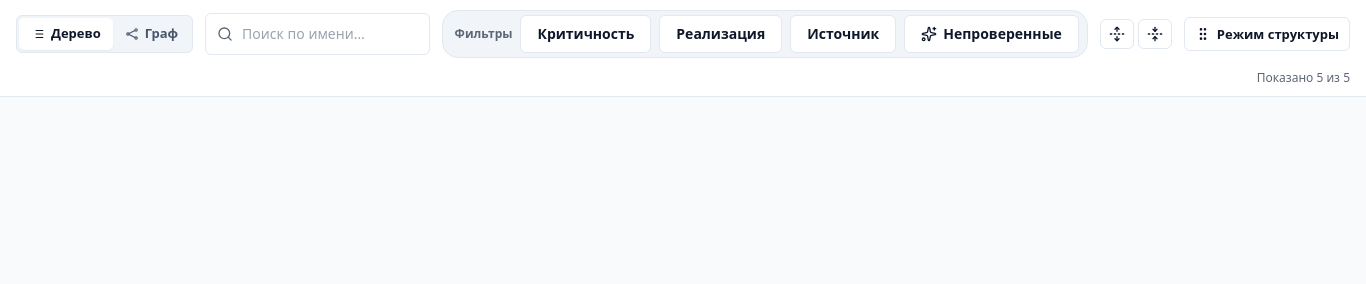
TreeToolbar (T-1101/1103/1105) › FR-19 · «Источник» dropdown › opens the dropdown with «Не задан» plus the project sources
The width and height of the screenshot is (1366, 284).
Click the button with test id "source-filter": click(843, 34) x1=790 y1=15 x2=896 y2=53
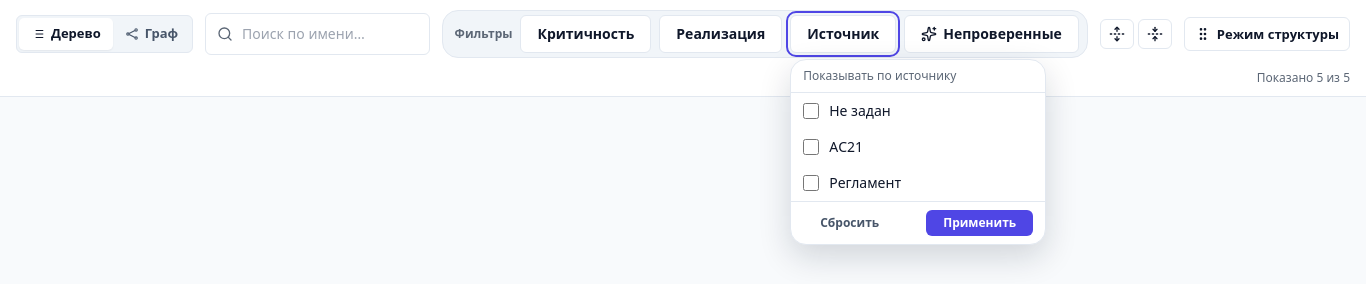
Expected: the element with test id "source-dropdown" is shown, x1=790 y1=59 x2=1046 y2=245
Expected: the label with test id "source-opt-empty" reads "Не задан", x1=829 y1=101 x2=891 y2=120
Expected: the text "АС21" is shown, x1=803 y1=137 x2=863 y2=156
